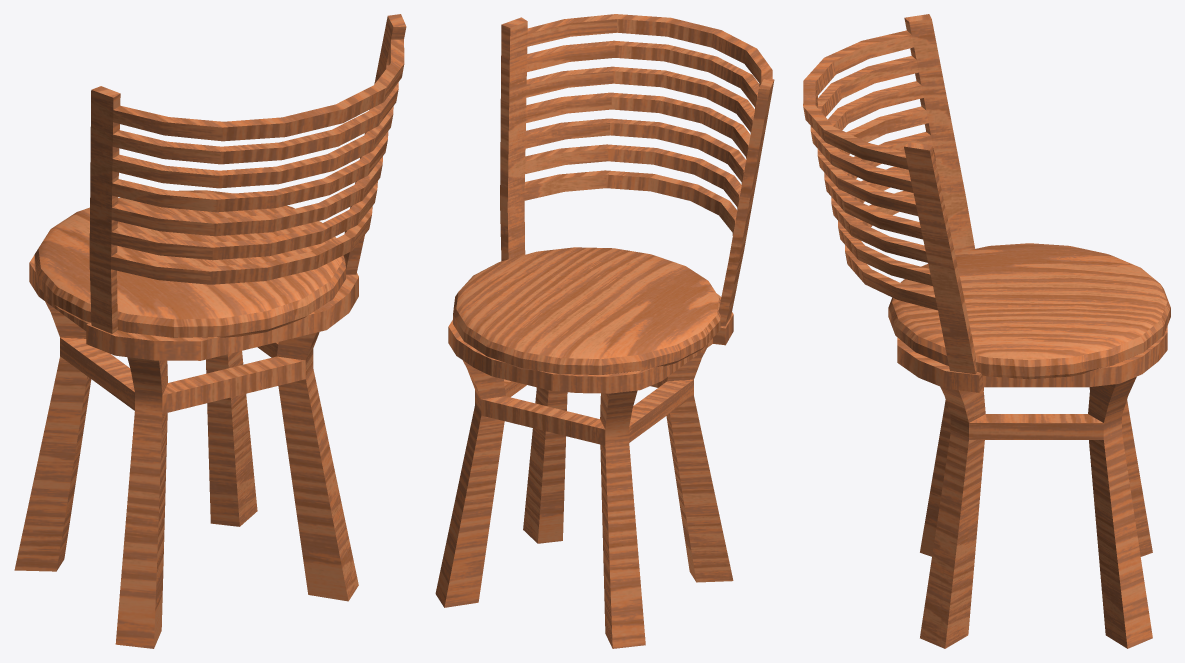
File: Sedia.fbx
3 renders of one model, left to right at view 1: azimuth 30°, elevation 25°; view 2: azimuth 150°, elevation 25°; view 3: azimuth 270°, elevation 25°, orthographic. The views are drawn at different scales.
Parts seen in each view (by area): view 1: Sedia; view 2: Sedia; view 3: Sedia.
Boxes of the visible parts, bbox=[...] form: Sedia: bbox=[14, 14, 406, 648]; Sedia: bbox=[435, 14, 774, 648]; Sedia: bbox=[803, 14, 1170, 648].
Bounding box in the file's own units: 797 × 1398 × 908.
